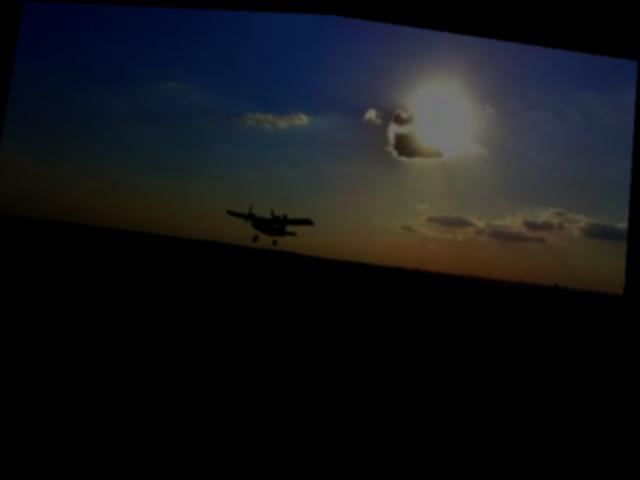uav: (221, 196, 320, 243)
